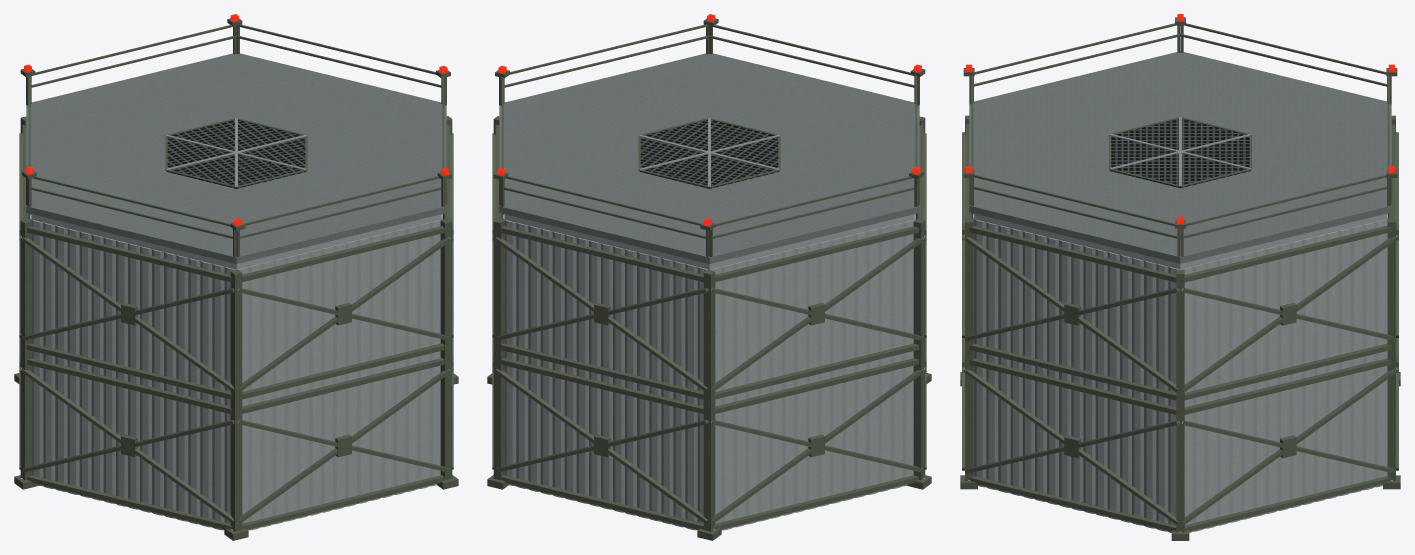
The model's file is pier.glb.
3 views of the same model, side by side, from view 1: azimuth 30°, elevation 25°; view 2: azimuth 150°, elevation 25°; view 3: azimuth 270°, elevation 25° (orthographic).
Visible parts, largest first — view 1: pier-lod0-roof0, pier-lod0-floor0, pier-lod0-base0; view 2: pier-lod0-roof0, pier-lod0-floor0, pier-lod0-base0; view 3: pier-lod0-roof0, pier-lod0-floor0, pier-lod0-base0.
Part boxes in pixels (x1,y1,x2,y2): pier-lod0-roof0: (20,14,452,269); pier-lod0-floor0: (19,116,453,406); pier-lod0-base0: (14,338,458,540); pier-lod0-roof0: (493,14,925,269); pier-lod0-floor0: (492,116,926,406); pier-lod0-base0: (487,338,931,540); pier-lod0-roof0: (963,14,1397,269); pier-lod0-floor0: (962,115,1398,406); pier-lod0-base0: (960,338,1400,540).
Size of what is drawn, in the model's own units: 62.24 by 43.07 by 54.2.
6 materials, 6 textured.
